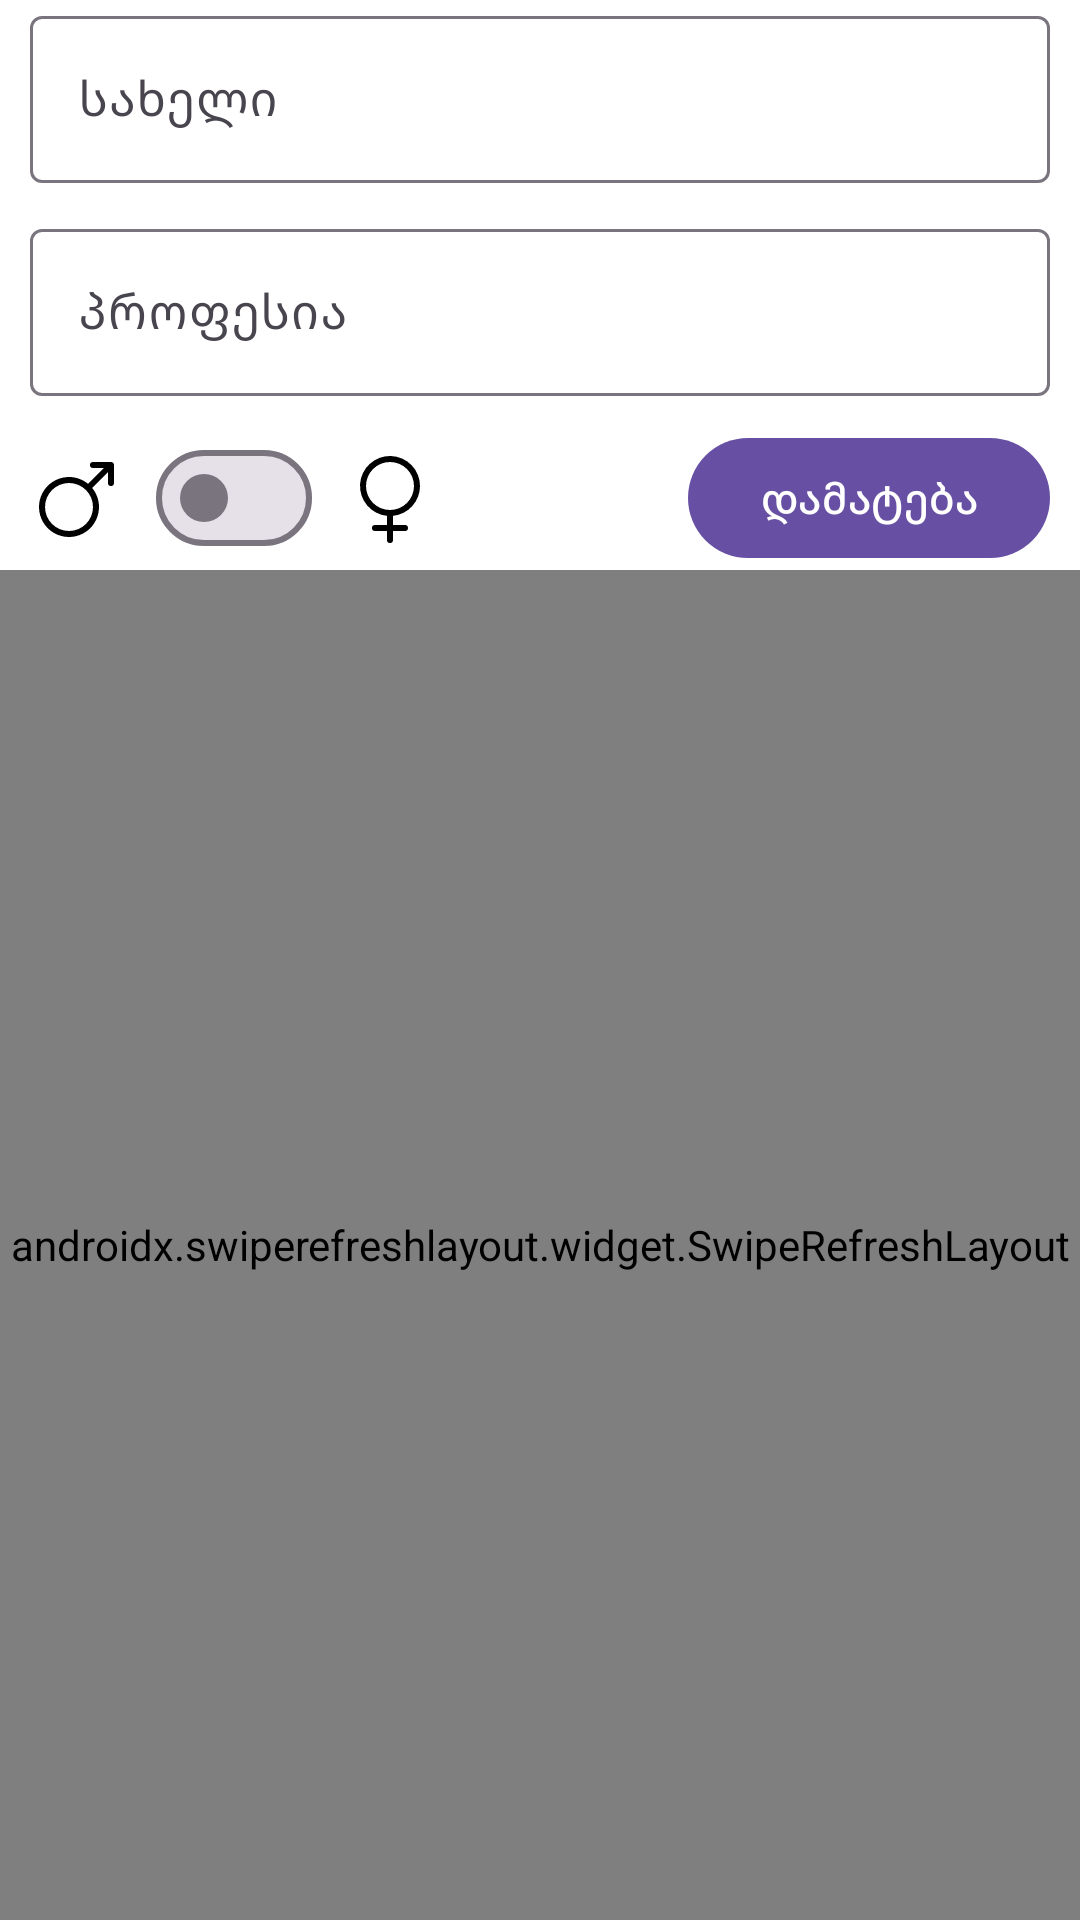

Named icons in this screenshot (1080 × 1920) and their bounding boxes, BBox(x1, y1, x2, y2):
კაცი: BBox(39, 462, 114, 537)
ქალი: BBox(360, 456, 420, 543)
